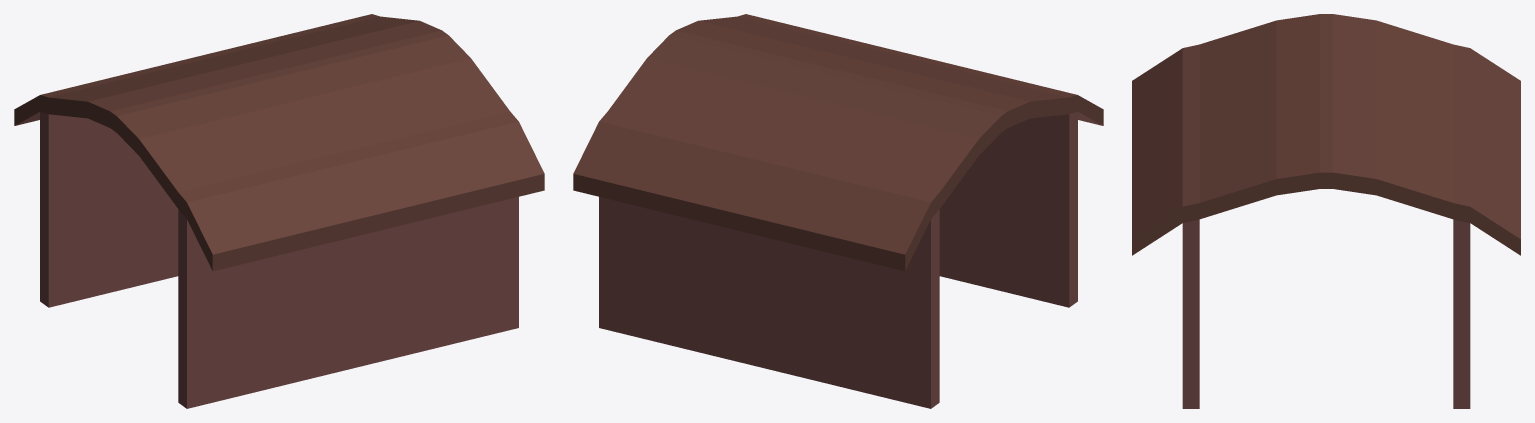
File: garage.fbx
3 renders of one model, left to right at view 1: azimuth 30°, elevation 25°; view 2: azimuth 150°, elevation 25°; view 3: azimuth 270°, elevation 25°, orthographic. The views are drawn at different scales.
Visible parts, largest first — view 1: Cube.014; view 2: Cube.014; view 3: Cube.014.
Part boxes in pixels (x1,y1,x2,y2): Cube.014: [14, 14, 544, 408]; Cube.014: [573, 14, 1103, 408]; Cube.014: [1132, 14, 1520, 408].
Size of the model in its own units: 964 by 670 by 998.
